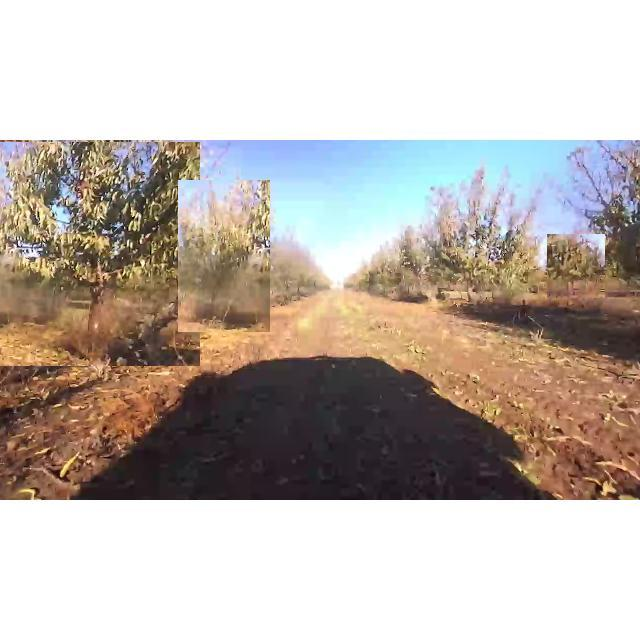tree: (0, 142, 200, 366), (424, 160, 538, 312), (550, 141, 640, 333), (178, 180, 270, 332), (392, 218, 444, 300), (547, 234, 605, 298), (278, 242, 310, 302)
